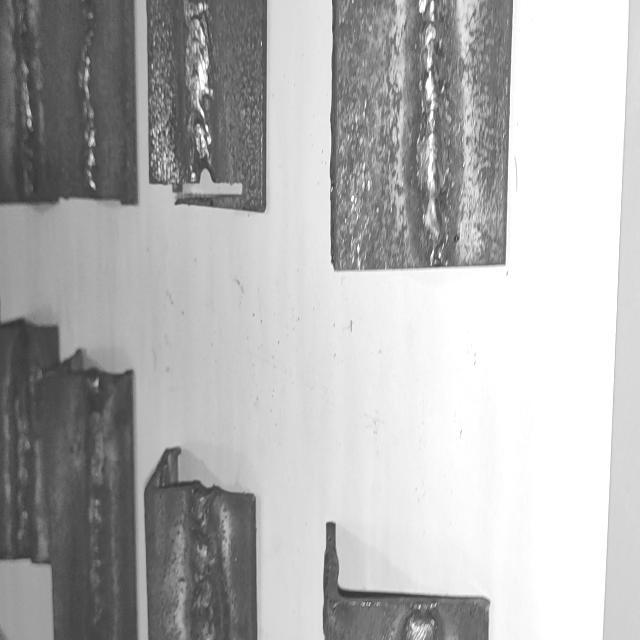Defect: (10, 344, 48, 424), (399, 609, 441, 640)
Welding Line: (418, 0, 448, 239), (185, 0, 209, 172), (87, 388, 102, 633), (15, 0, 31, 195), (80, 0, 96, 187), (192, 495, 212, 640), (16, 416, 29, 556)
Workpiece: (328, 0, 514, 275), (48, 366, 136, 640), (152, 0, 272, 196), (146, 486, 264, 640), (59, 0, 142, 195), (0, 0, 69, 207), (0, 330, 58, 558)
